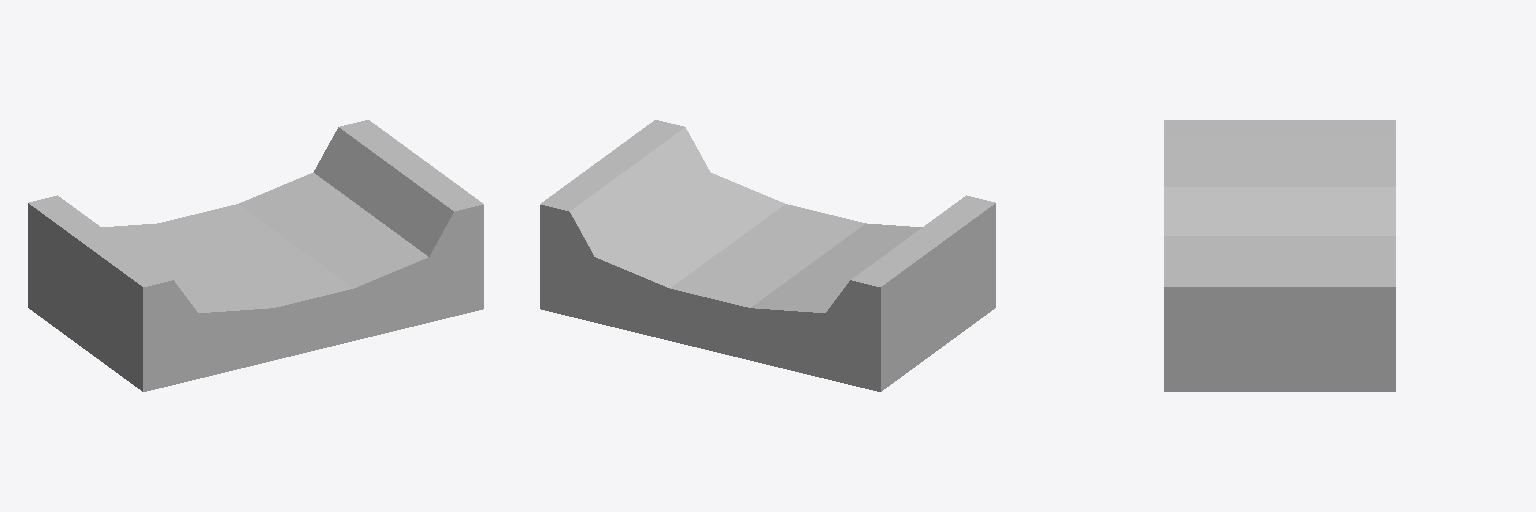
The model's file is straight-wide.obj.
The picture shows the model from 3 angles: view 1: azimuth 30°, elevation 25°; view 2: azimuth 150°, elevation 25°; view 3: azimuth 270°, elevation 25°; orthographic projection.
Parts seen in each view (by area): view 1: straight-wide; view 2: straight-wide; view 3: straight-wide.
Part boxes in pixels (x1,y1,x2,y2): straight-wide: (28,120,483,391); straight-wide: (540,120,995,391); straight-wide: (1164,120,1395,391).
Size of the model in its own units: 1.7 by 0.5 by 1.